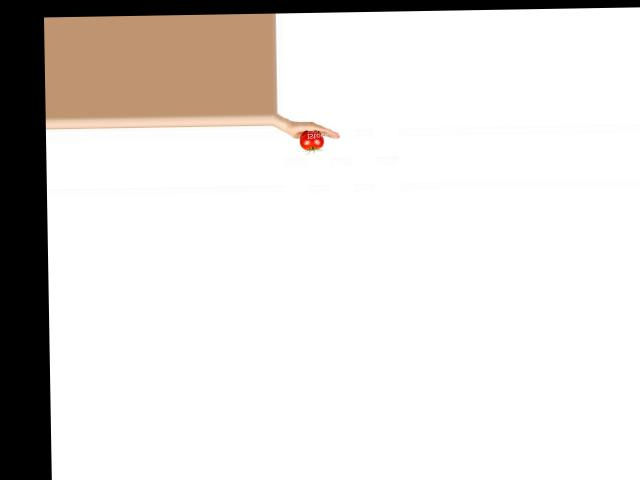tomato: (299, 130, 324, 150)
